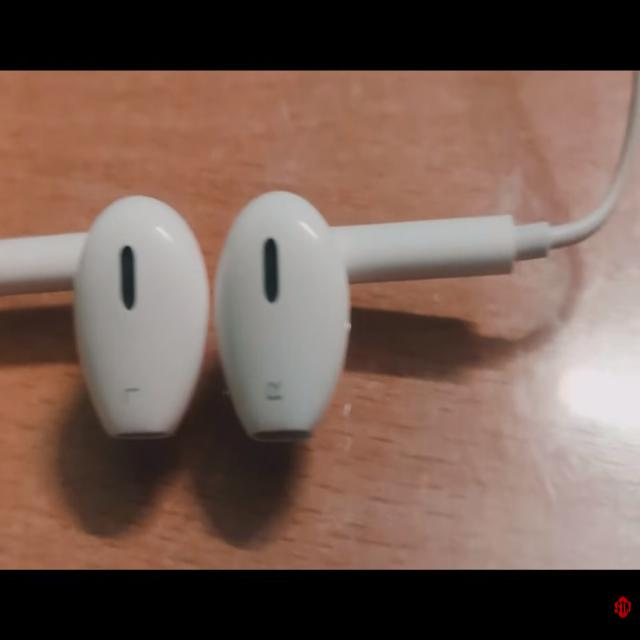Earphone: (2, 68, 640, 440)
